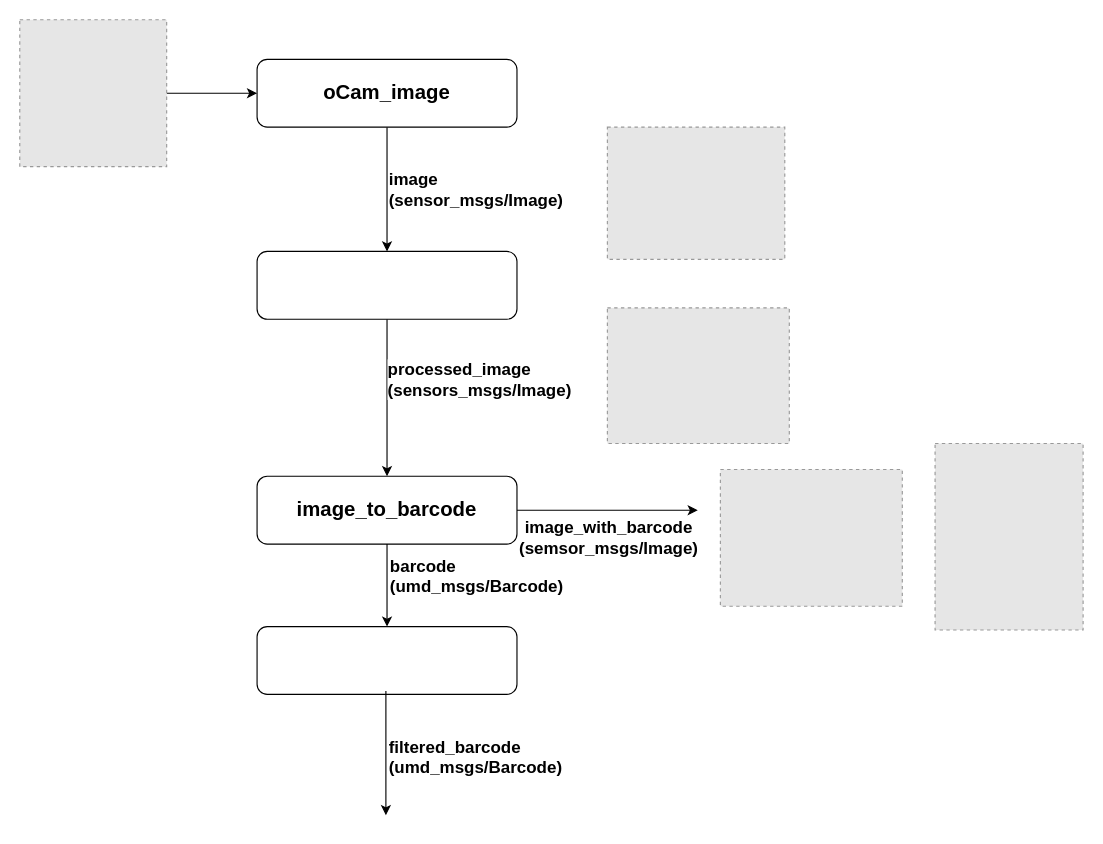
Image size: 1103x844. Some labels were removed from this diagram. Grey dashed boxes stand in for pictures. Here are the shapes that lost their labels. From the top down, the centre of each, then its label:
At (386,284): "image_preprocessing".
At (386,659): "barcode_filter".
